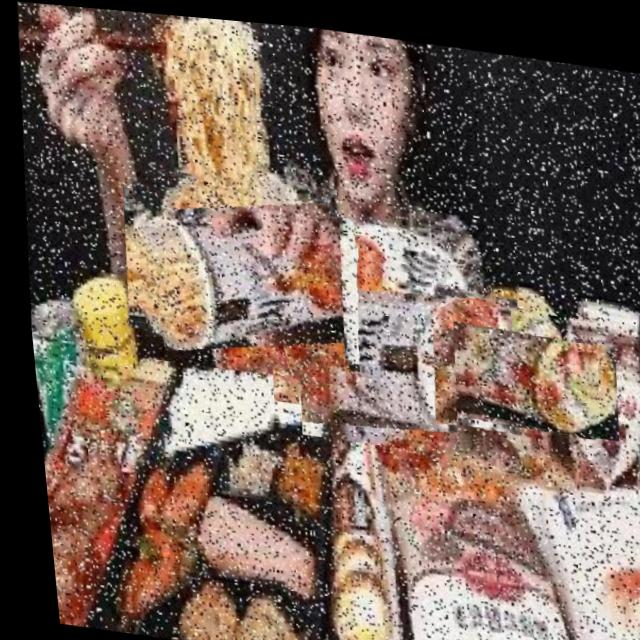Miscellaneous: (122, 157, 348, 380), (278, 232, 500, 452), (439, 292, 599, 449)
